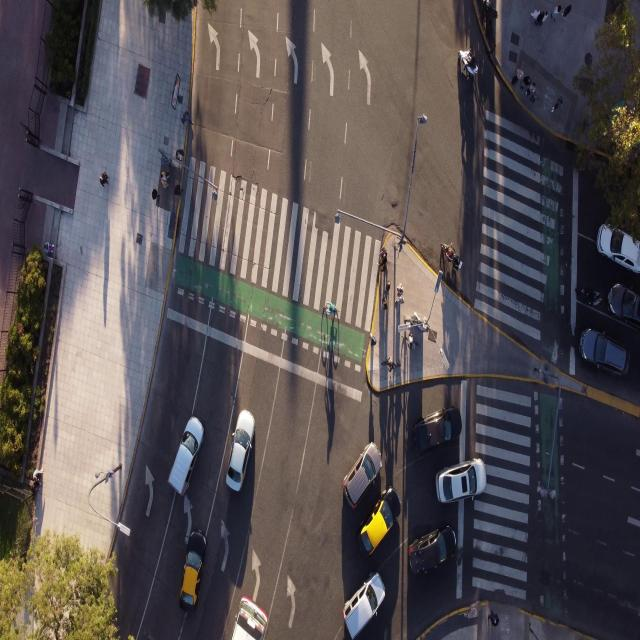Car: (358, 486, 401, 557), (169, 414, 205, 498), (411, 400, 463, 458), (342, 574, 389, 637), (435, 457, 493, 507), (408, 526, 460, 580), (225, 406, 258, 490), (343, 442, 380, 507), (179, 528, 209, 606)
